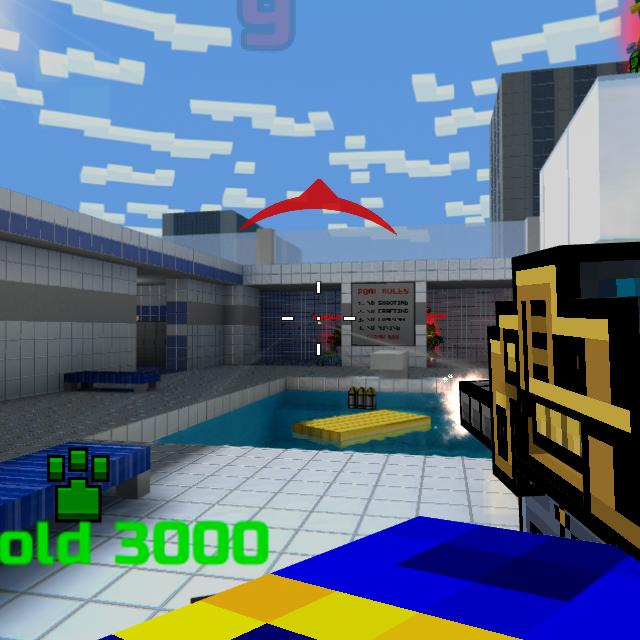Enemy: (626, 9, 640, 73), (426, 325, 441, 365), (324, 323, 338, 356)
